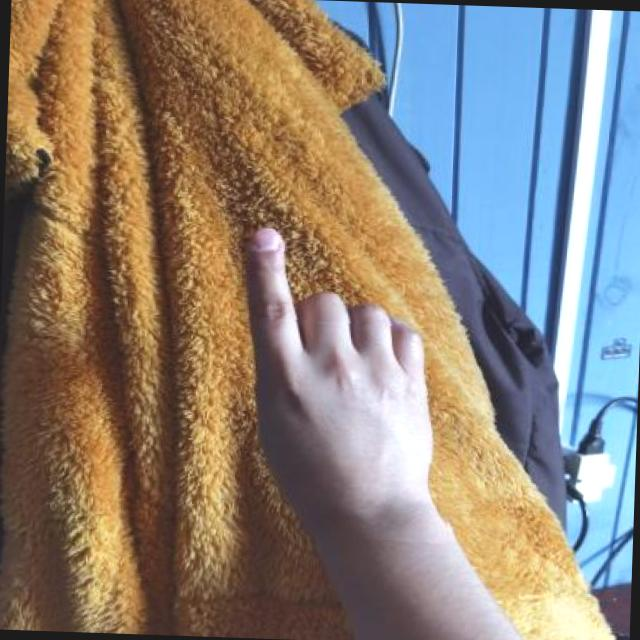T: (203, 219, 462, 544)
